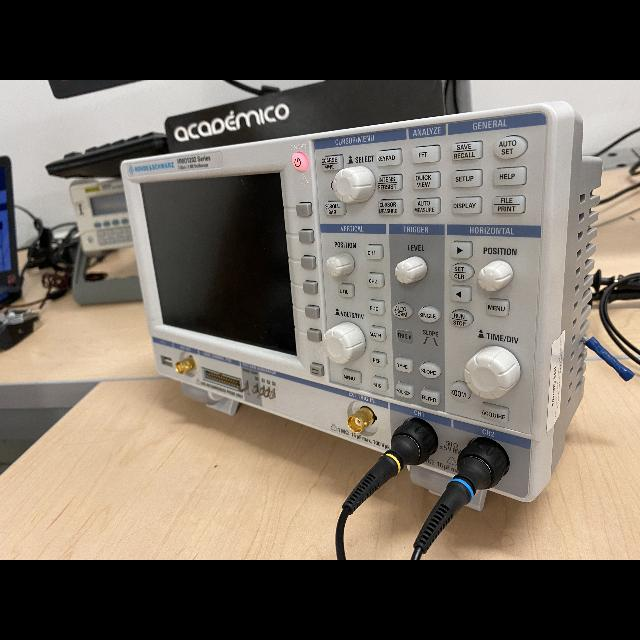Digital-Oscilloscope: (121, 101, 603, 502)
